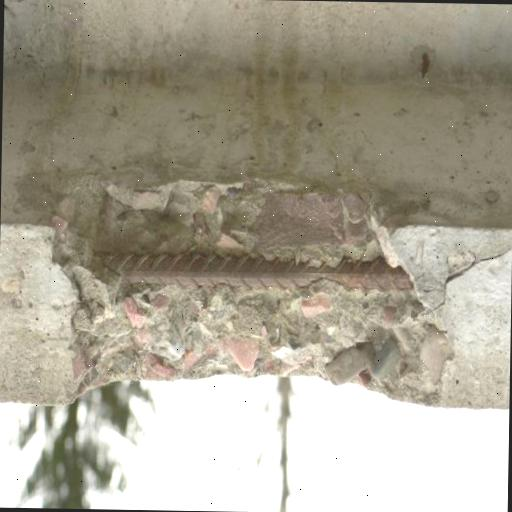spalling: (72, 186, 444, 410)
